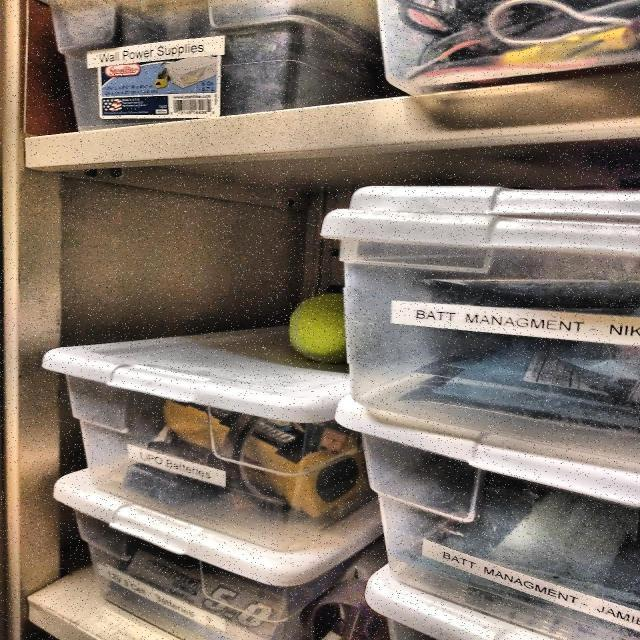tennis-ball: (290, 288, 372, 364)
